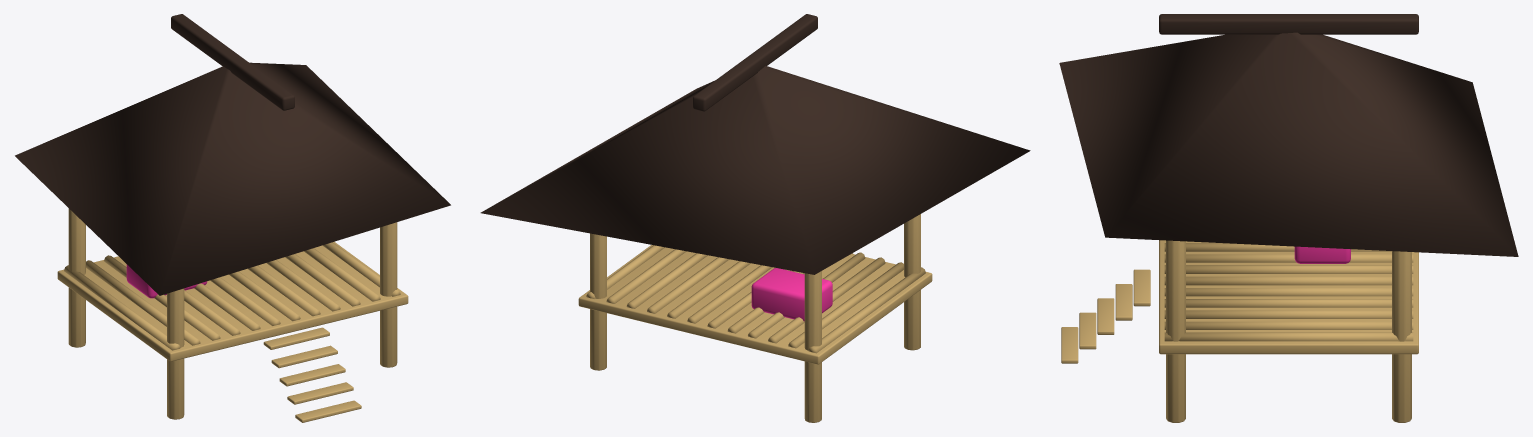
The model's file is saung.glb.
The picture shows the model from 3 angles, left to right: view 1: azimuth 30°, elevation 25°; view 2: azimuth 150°, elevation 25°; view 3: azimuth 270°, elevation 25°; orthographic projection. The views are drawn at different scales.
Parts seen in each view (by area): view 1: Cone, Cube, Cube.001, Cylinder.002, Cylinder, Cylinder.001, Cylinder.004, Cylinder.005, Cylinder.014, Cylinder.013, Cylinder.012, Cylinder.011 (+12 smaller); view 2: Cone, Cube, Cube.001, Cube.007, Cylinder.001, Cylinder.003, Cylinder, Cylinder.004, Cylinder.005, Cylinder.006, Cylinder.010, Cylinder.011 (+5 smaller); view 3: Cone, Cube, Cube.001, Cylinder.002, Cylinder.003, Cylinder.015, Cylinder.010, Cylinder.009, Cylinder.012, Cylinder.013, Cylinder.011, Cylinder.014 (+8 smaller).
Part boxes in pixels (x1,y1,x2,y2): Cone: (15,62,450,295); Cube: (57,241,408,361); Cube.001: (171,14,294,110); Cylinder.002: (380,222,397,367); Cylinder: (167,288,184,419); Cylinder.001: (68,208,85,347); Cylinder.004: (64,265,180,350); Cylinder.005: (86,260,200,345); Cylinder.014: (304,248,380,301); Cylinder.013: (285,254,360,306); Cylinder.012: (266,259,340,311); Cylinder.011: (248,265,320,316); Cone: (480,65,1030,274); Cube: (578,245,932,364); Cube.001: (693,14,817,111); Cube.007: (751,268,832,321); Cylinder.001: (804,271,821,422); Cylinder.003: (590,233,606,370); Cylinder: (904,214,920,350); Cylinder.004: (808,267,925,353); Cylinder.005: (788,262,903,348); Cylinder.006: (768,257,885,343); Cylinder.010: (687,265,771,323); Cylinder.011: (667,261,750,318); Cone: (1059,32,1518,256); Cube: (1159,240,1418,354); Cube.001: (1159,14,1418,34); Cylinder.002: (1166,240,1185,422); Cylinder.003: (1392,251,1411,422); Cylinder.015: (1164,332,1413,341); Cylinder.010: (1164,276,1413,285); Cylinder.009: (1164,265,1413,273); Cylinder.012: (1164,299,1413,307); Cylinder.013: (1164,310,1413,318); Cylinder.011: (1164,288,1413,296); Cylinder.014: (1164,321,1413,329).
Bounding box in the file's own units: 8.13 × 6.7 × 8.13.
